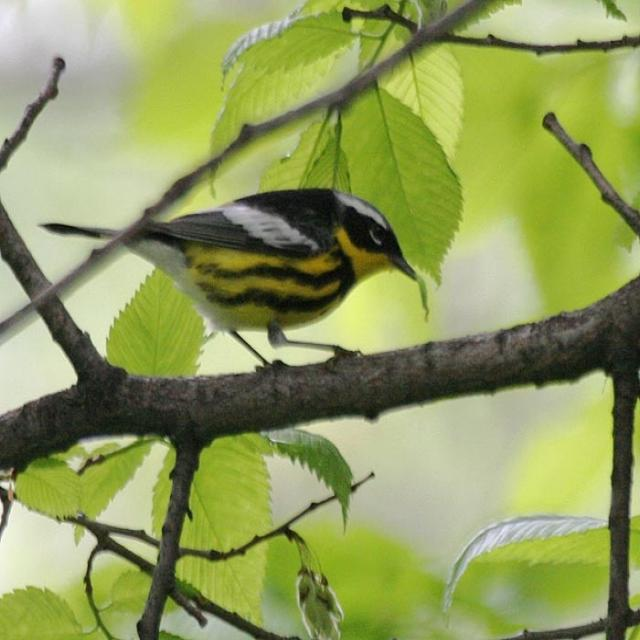bird: (28, 192, 433, 363)
